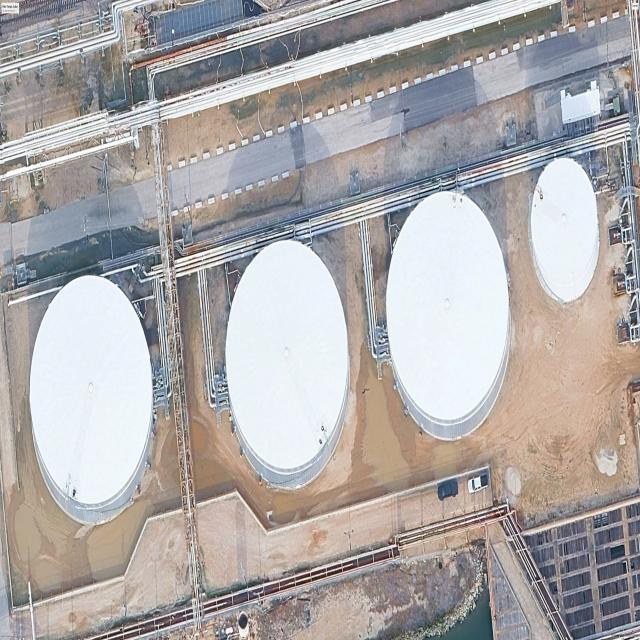Oil Rafinery: (386, 191, 511, 440), (225, 240, 350, 488), (30, 275, 154, 523), (528, 158, 599, 304)
